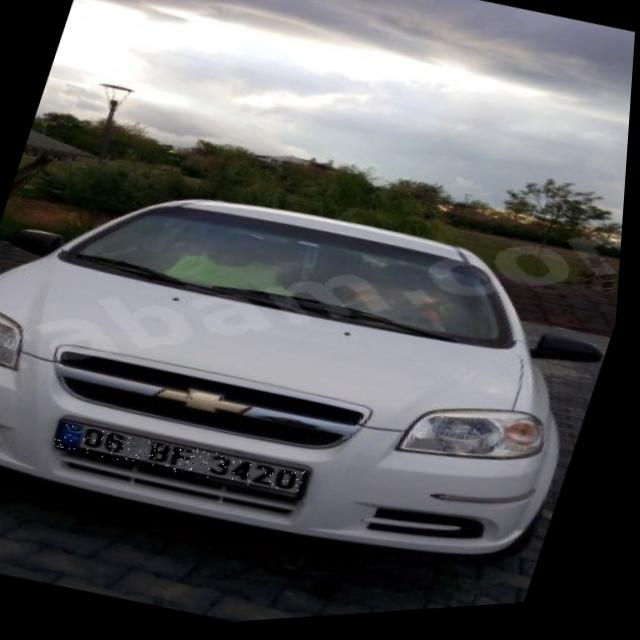license_plate: (54, 410, 317, 515)
